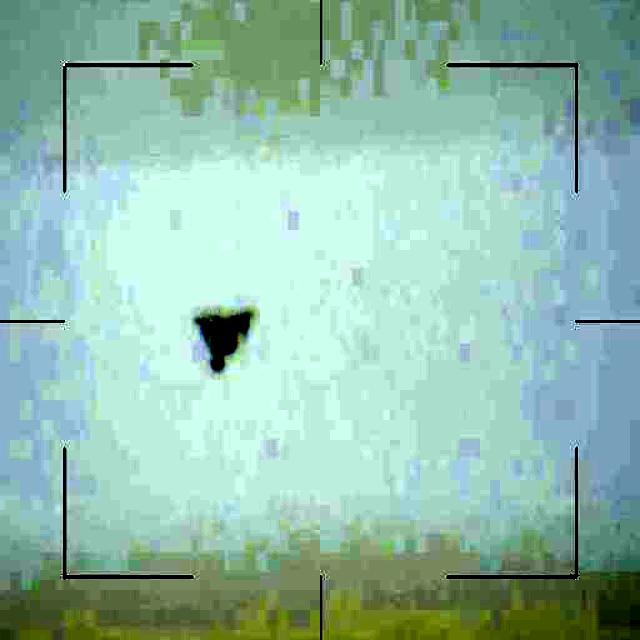bird: (192, 309, 261, 372)
